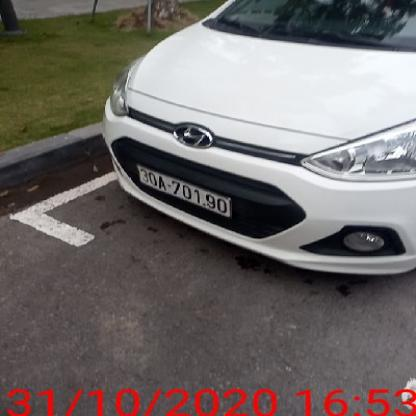biensoxe: (135, 159, 245, 221)
